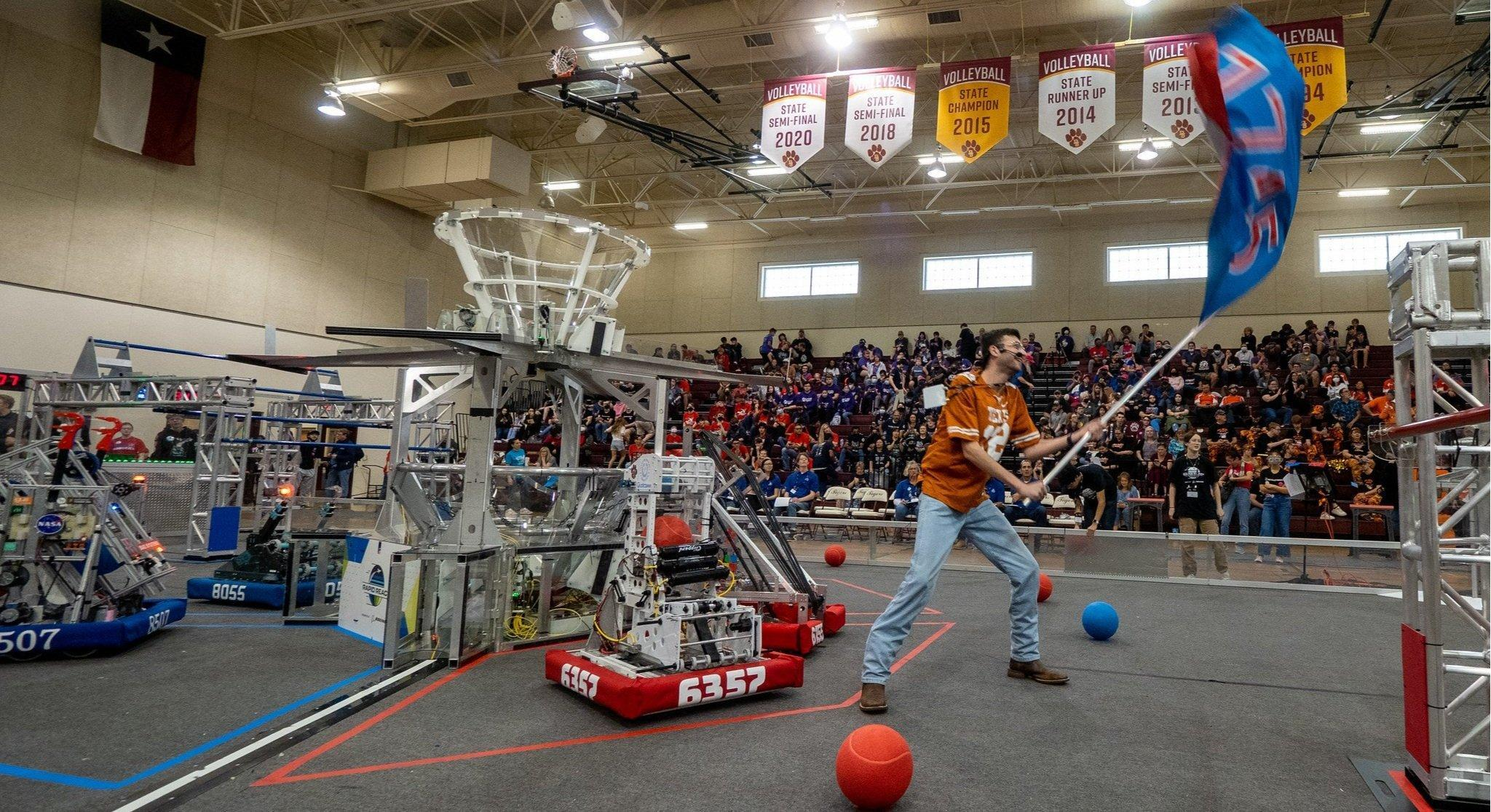robot: (541, 454, 809, 729), (0, 403, 195, 663), (683, 424, 851, 658), (183, 424, 366, 608)
